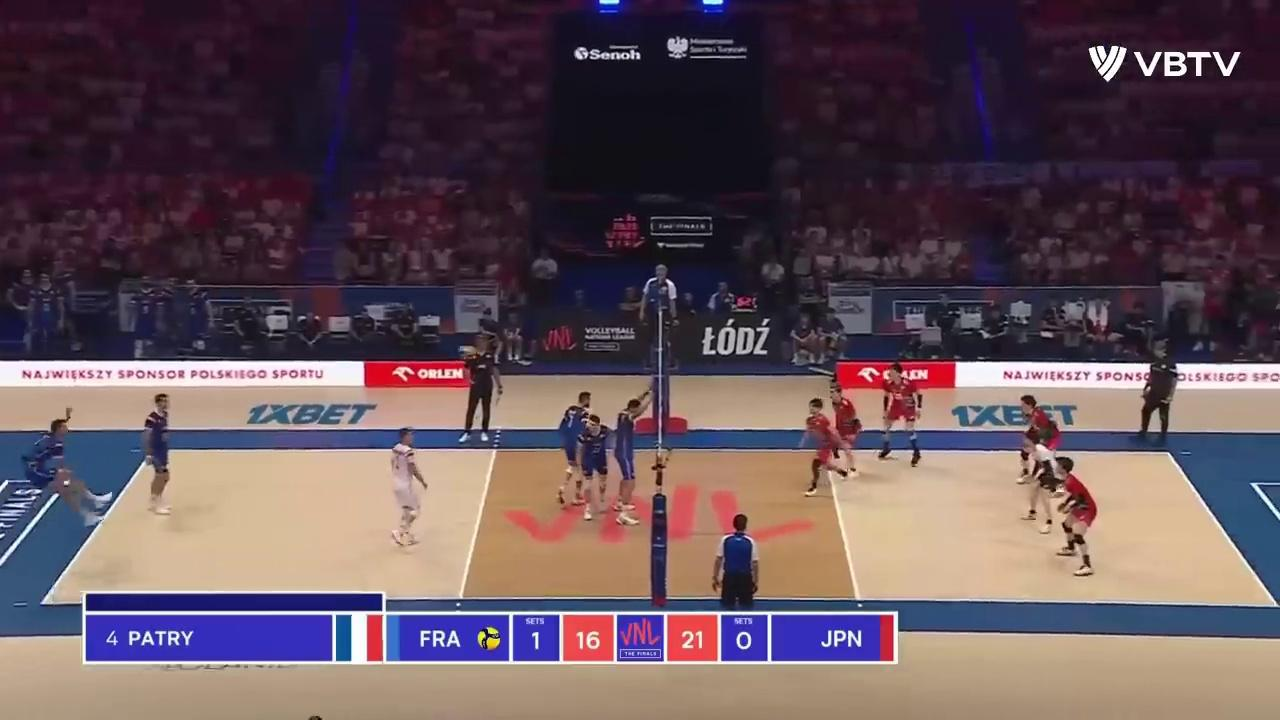ball: (458, 347, 478, 359)
